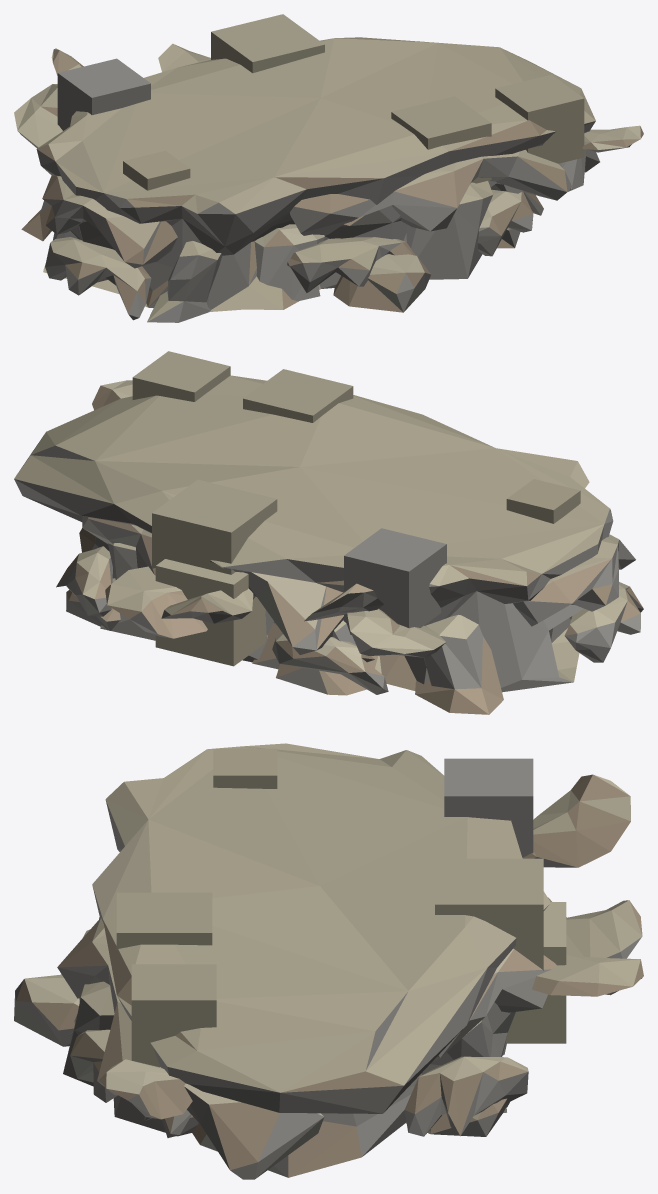
File: hill_01b.glb
The picture shows the model from 3 angles, top to bottom: view 1: azimuth 30°, elevation 25°; view 2: azimuth 150°, elevation 25°; view 3: azimuth 270°, elevation 25°; orthographic projection. The views are drawn at different scales.
Parts seen in each view (by area): view 1: mapa.terreno.colina.env_hill_01b; view 2: mapa.terreno.colina.env_hill_01b; view 3: mapa.terreno.colina.env_hill_01b.
Boxes of the visible parts, x1,y1,x2,y2 form: mapa.terreno.colina.env_hill_01b: (14, 14, 643, 322); mapa.terreno.colina.env_hill_01b: (14, 351, 643, 714); mapa.terreno.colina.env_hill_01b: (14, 743, 643, 1179).
Bounding box in the file's own units: 20.19 × 4.88 × 15.82.
